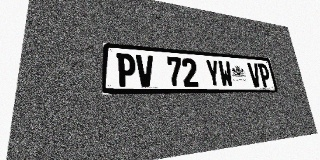2: (181, 58, 199, 87)
7: (166, 57, 184, 87)
P: (116, 53, 136, 87), (257, 63, 272, 87)
V: (136, 54, 155, 87), (247, 63, 262, 87)
W: (218, 60, 234, 87)
Y: (205, 59, 221, 87)
